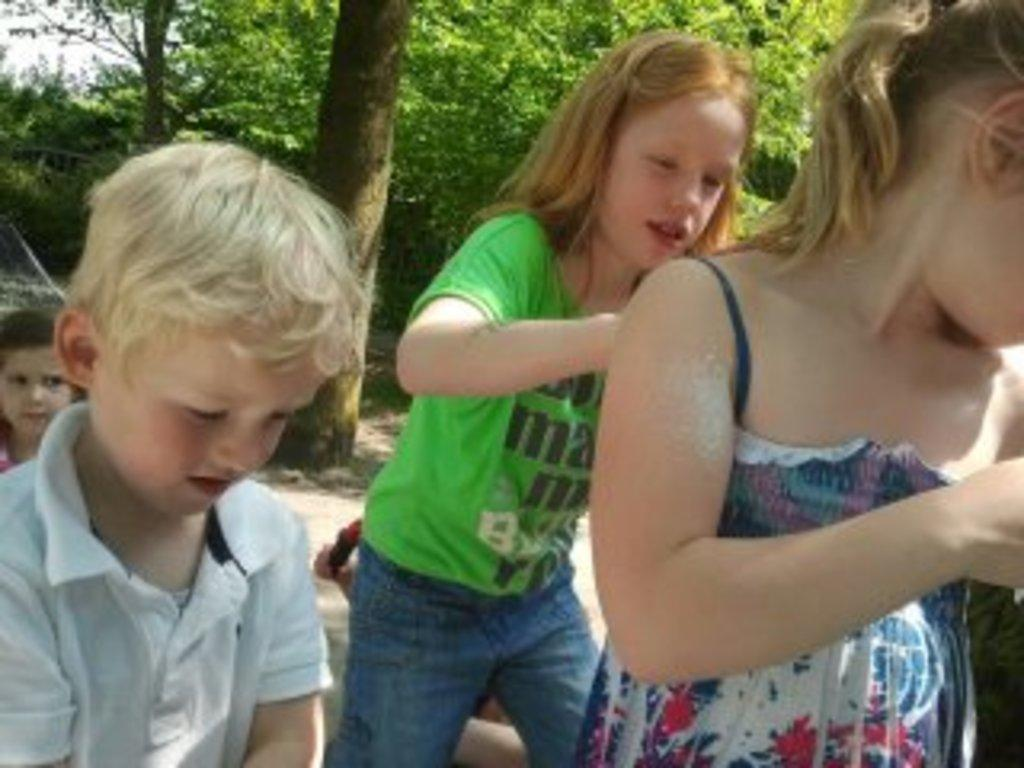Sem Máscara: (91, 334, 322, 511), (580, 59, 750, 270), (952, 171, 1019, 350), (0, 341, 71, 437)
